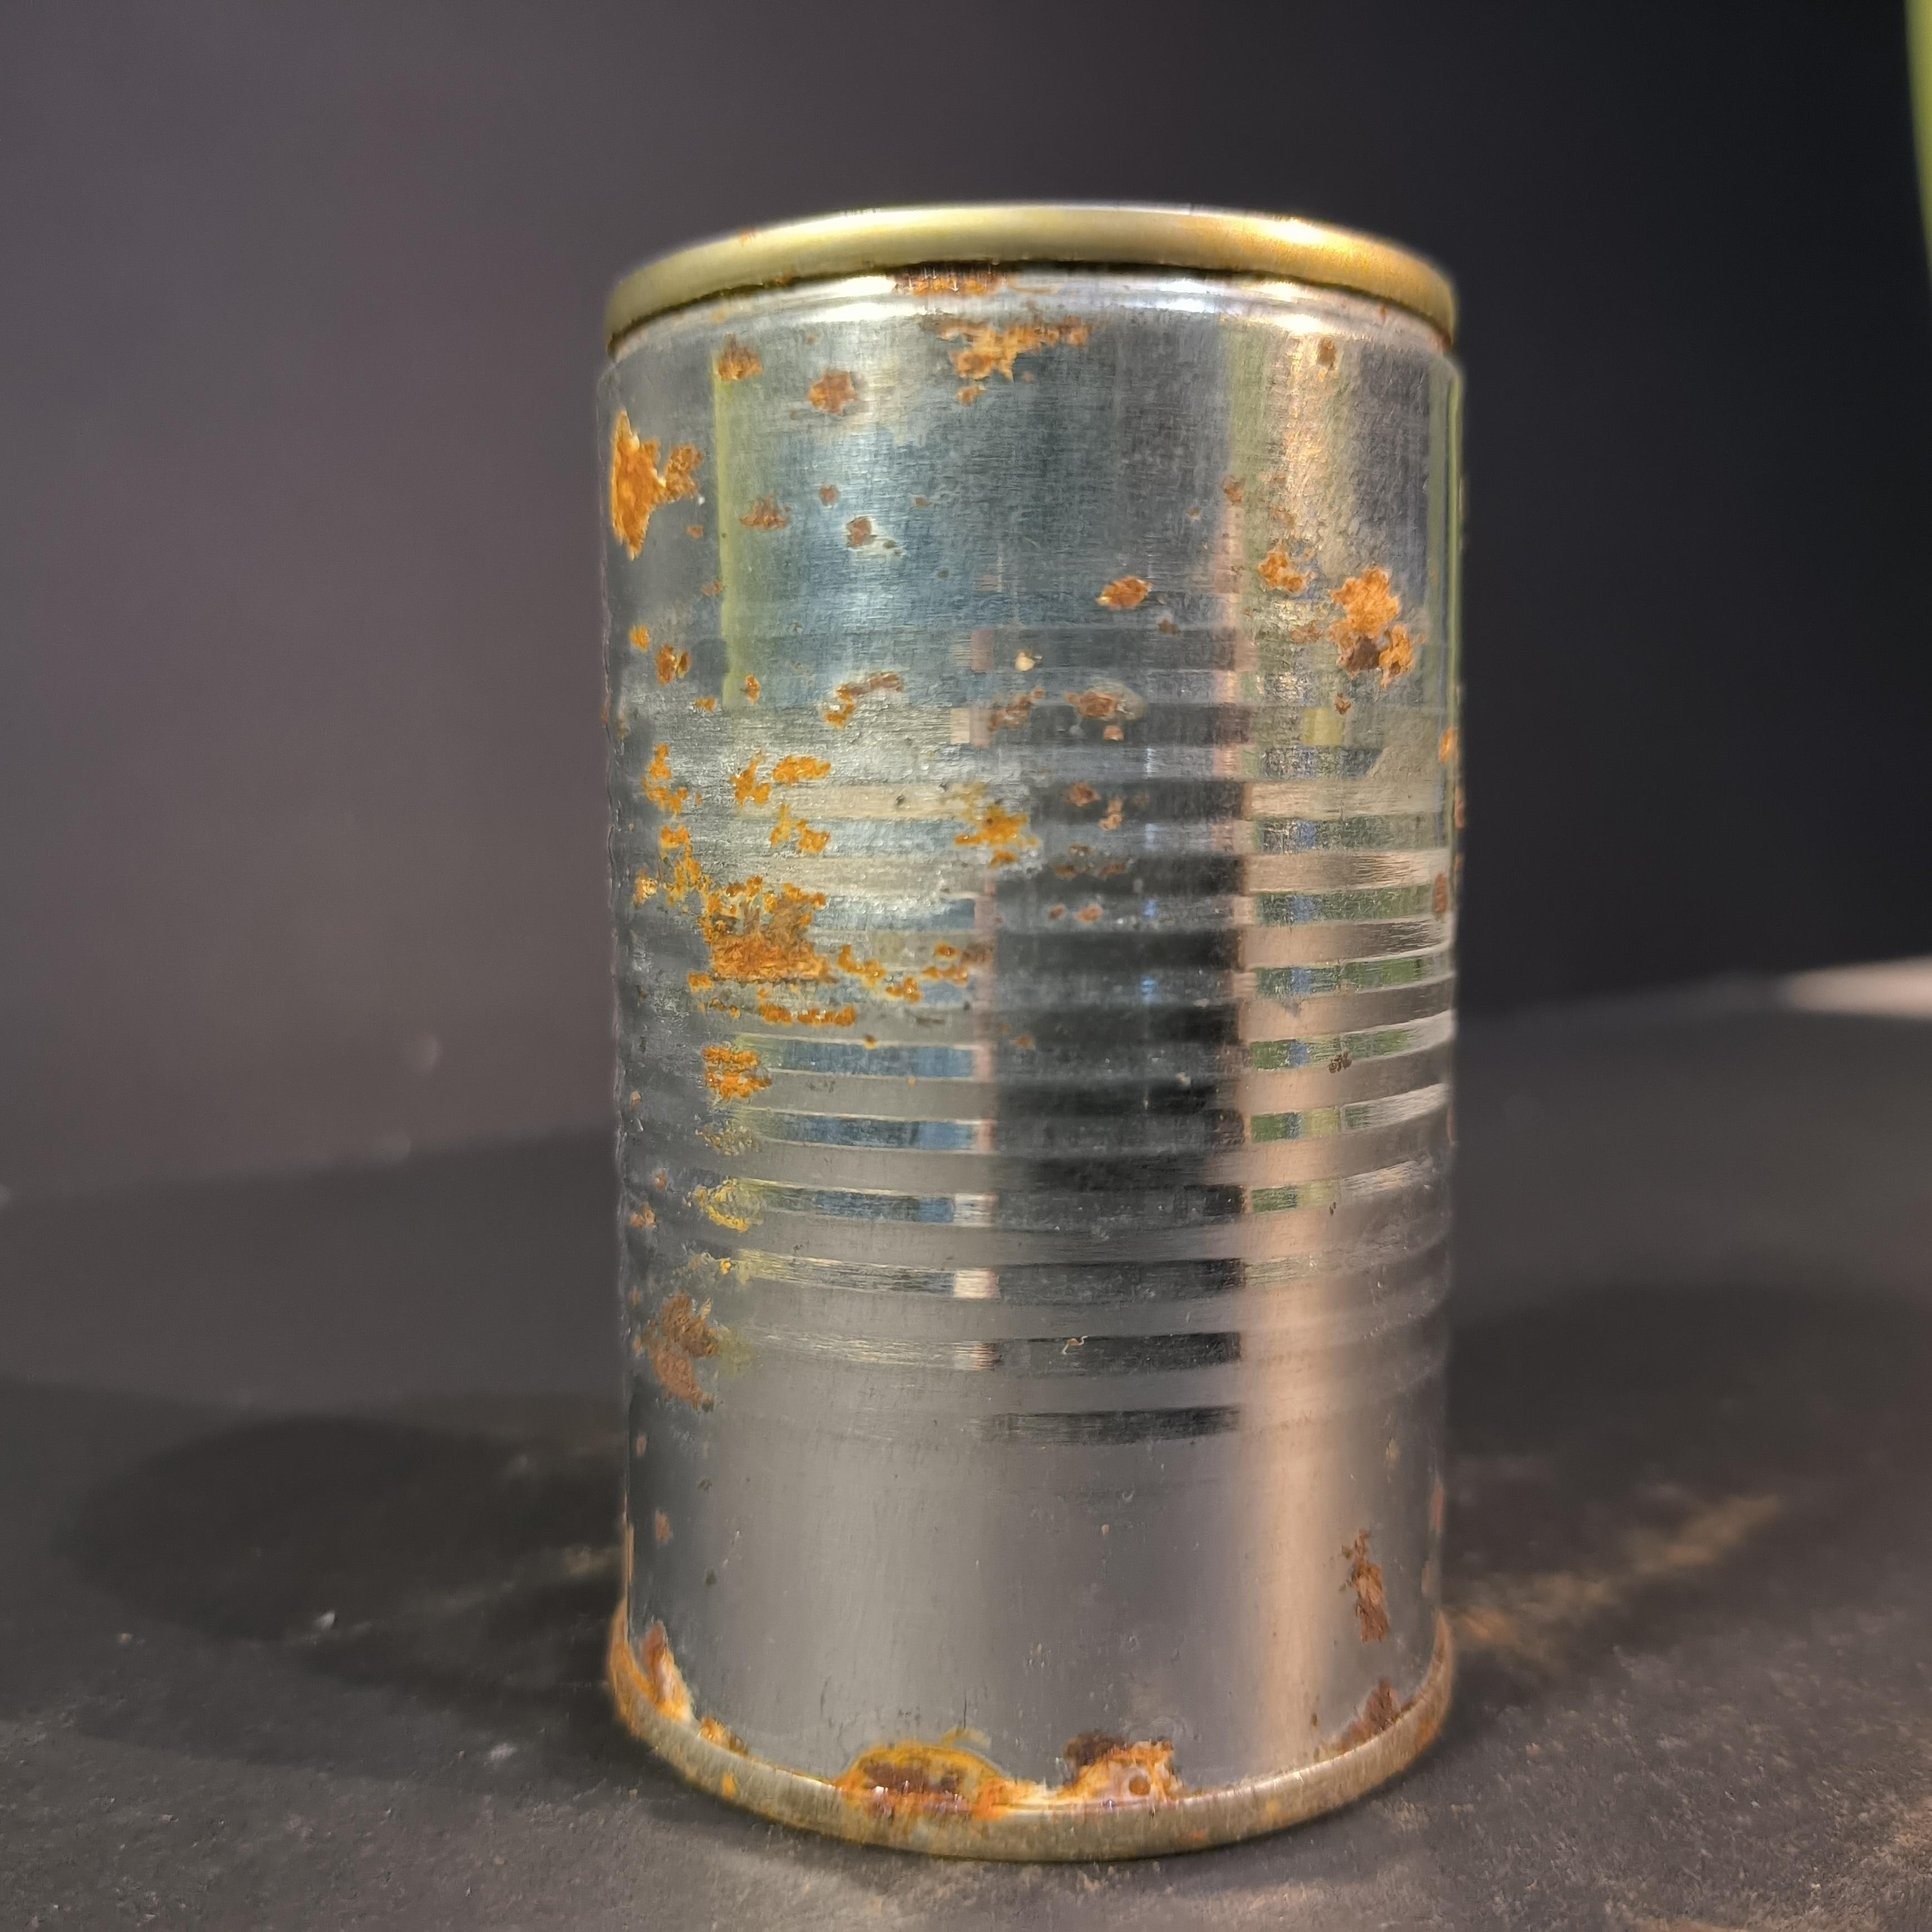Major Defect: (575, 184, 1477, 1874)
